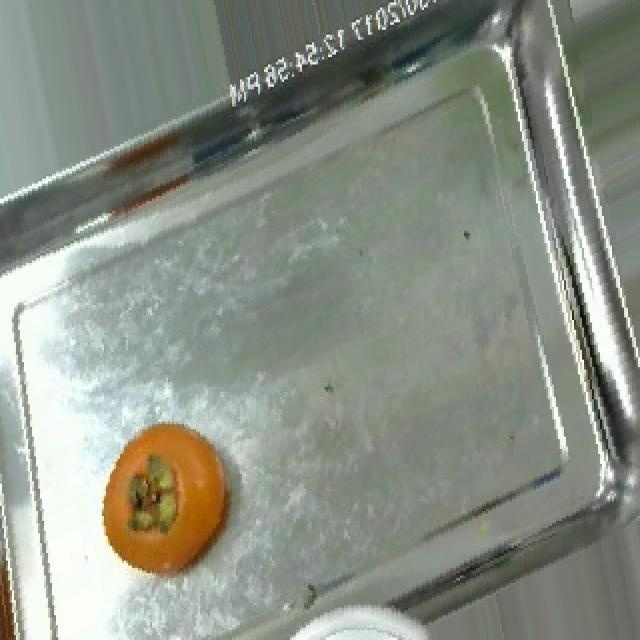Fruit: (92, 409, 248, 593)
